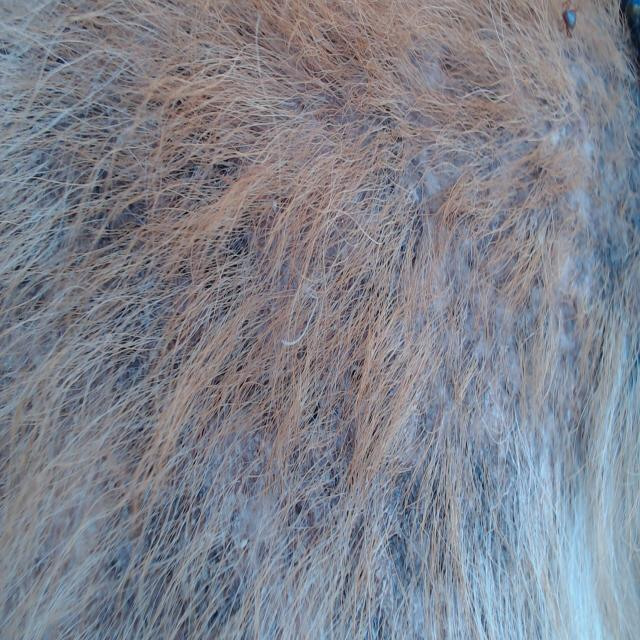demodicosis: (69, 402, 335, 640), (497, 85, 640, 337), (386, 454, 541, 597)
